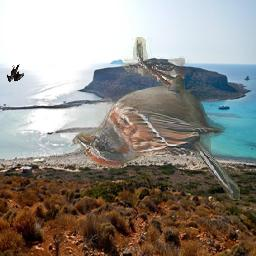Crow: (6, 64, 24, 82)
Sparrow: (76, 38, 240, 201)
